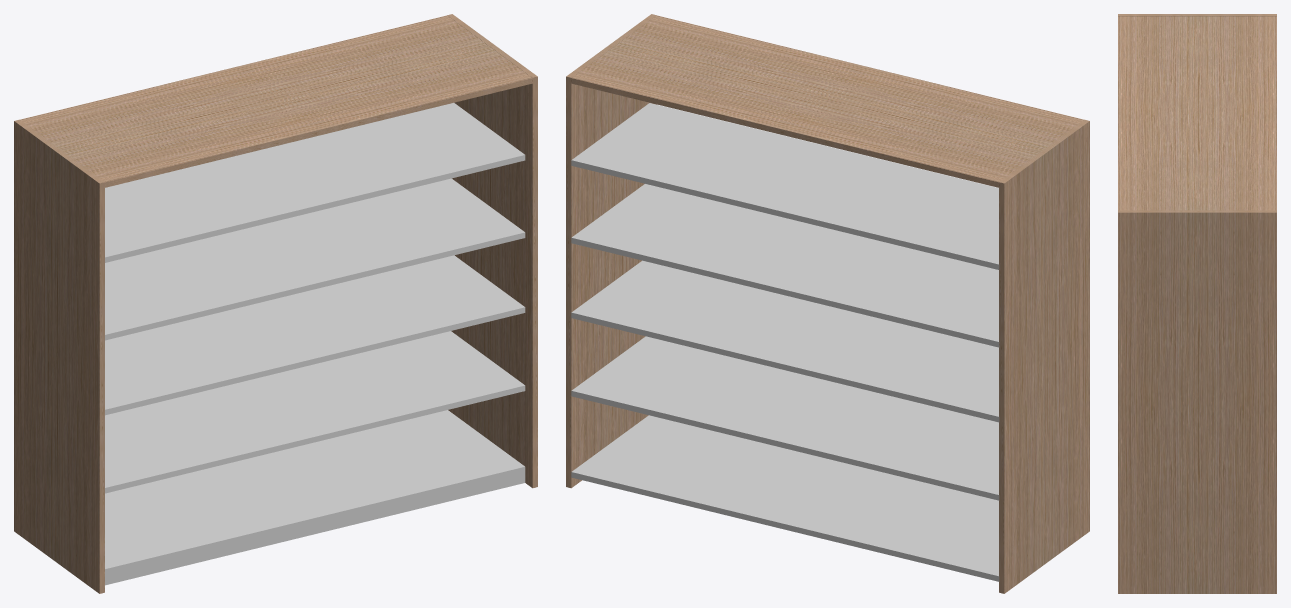
Rendered from Books cabinet 1.FBX.
3 views of the same model, side by side, from view 1: azimuth 30°, elevation 25°; view 2: azimuth 150°, elevation 25°; view 3: azimuth 270°, elevation 25° (orthographic). The views are drawn at different scales.
Parts seen in each view (by area): view 1: books cabinet; view 2: books cabinet; view 3: books cabinet.
Part boxes in pixels (x1=…): books cabinet: x1=14, y1=14, x2=537, y2=593; books cabinet: x1=566, y1=14, x2=1089, y2=593; books cabinet: x1=1118, y1=14, x2=1276, y2=593.
Bounding box in the file's own units: 217 × 194 × 73.28.
Materials: 2 (1 with a texture image).
